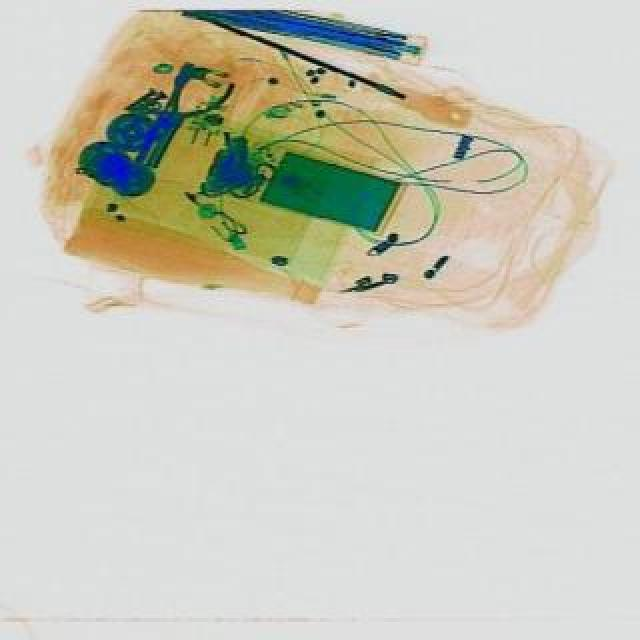wrench: (122, 56, 236, 162)
